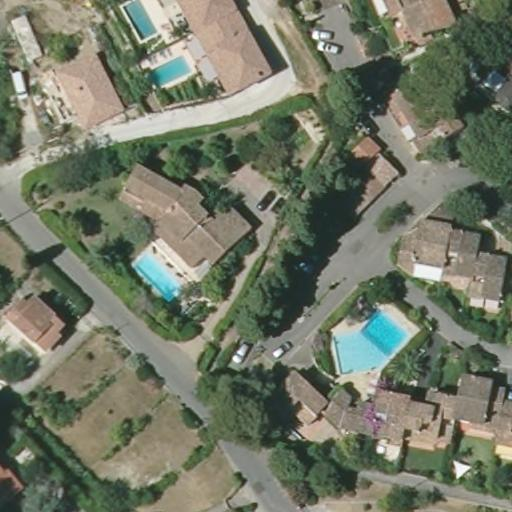pool: (324, 297, 417, 372), (126, 244, 189, 306), (142, 52, 200, 93), (114, 0, 156, 44)
